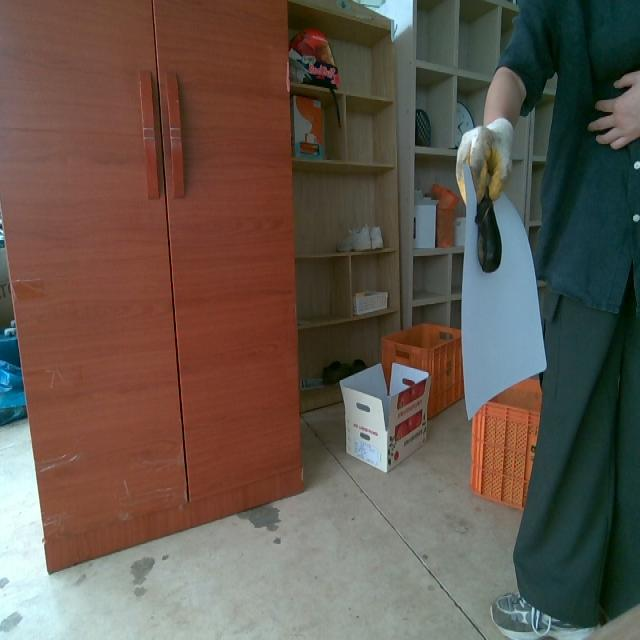Egg plant: (475, 192, 501, 272)
